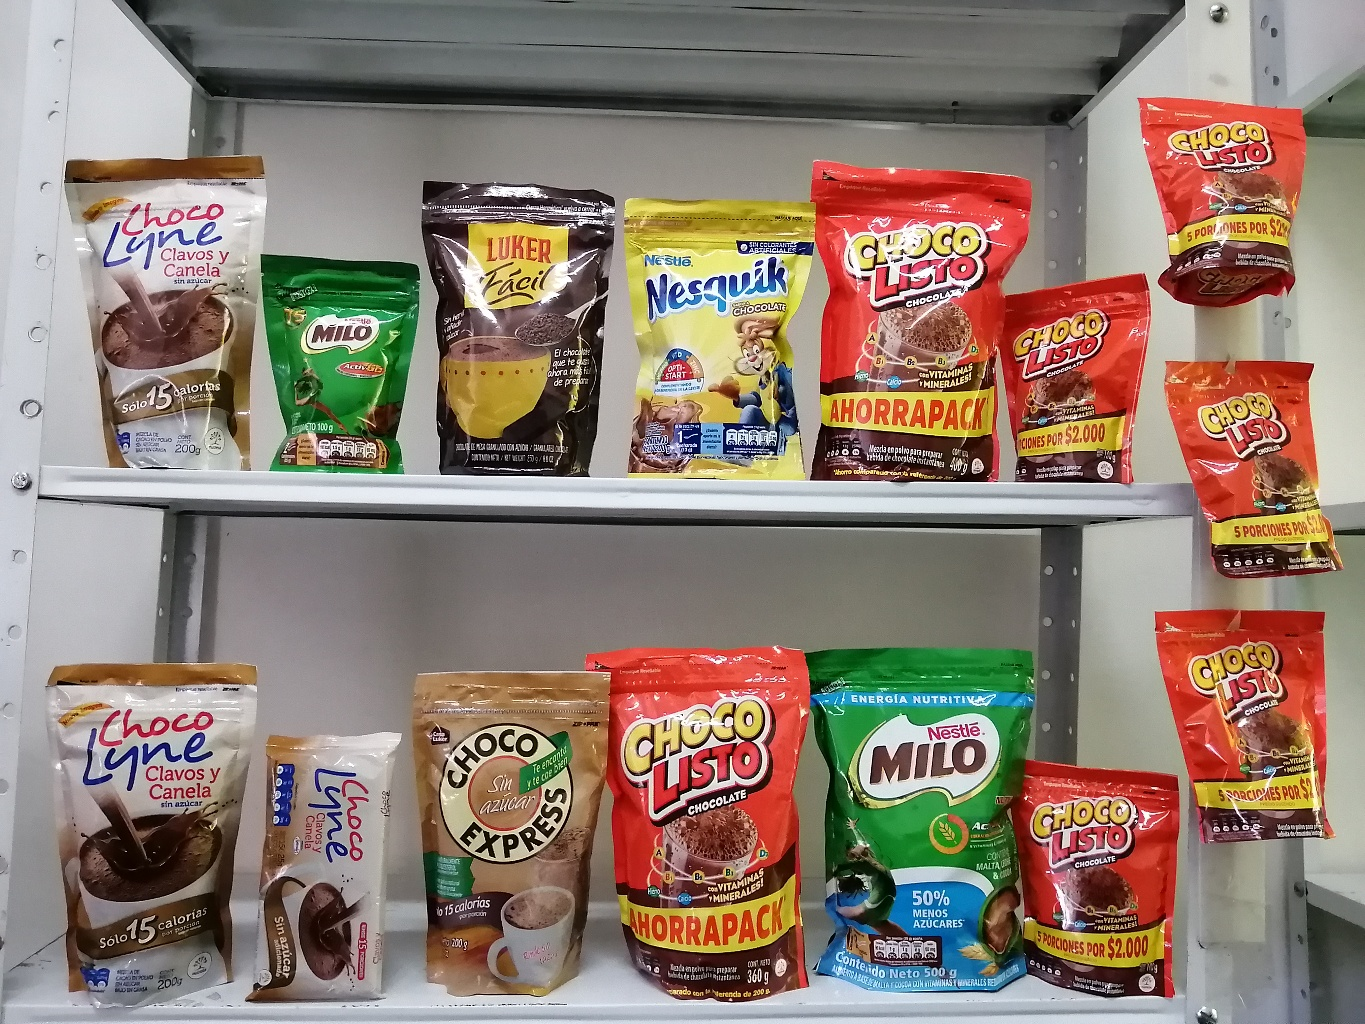COL0170103DYP10000: (998, 272, 1163, 481)
COL0170103DYP36000: (585, 645, 814, 1006)
COL0170103DYP40000: (812, 159, 1030, 482)
COL0170203DYP10000: (261, 248, 422, 475)
COL0170205DYP50000: (802, 639, 1040, 994)
COL0170303DYP20000: (624, 194, 821, 485)
